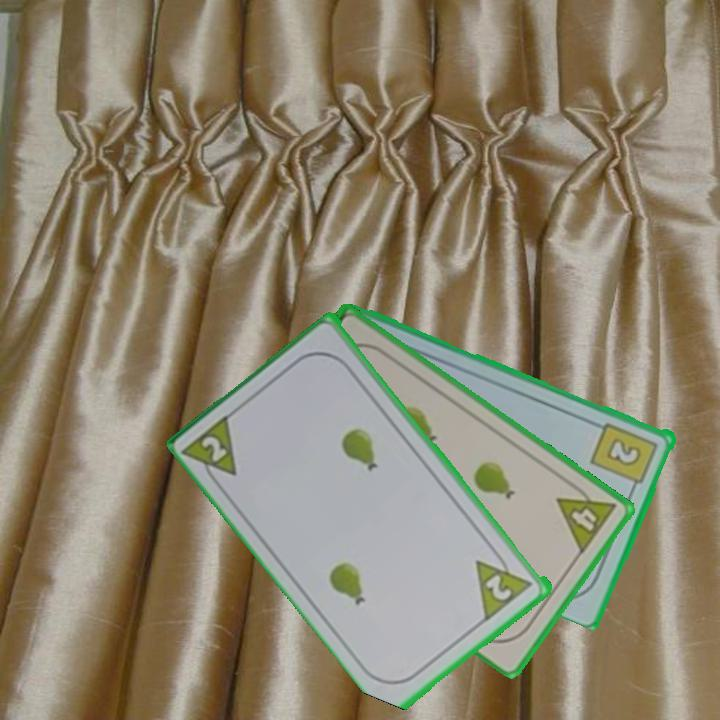2b: (588, 418, 661, 495)
2p: (472, 544, 538, 623), (180, 409, 241, 492)
4p: (553, 477, 619, 557)
